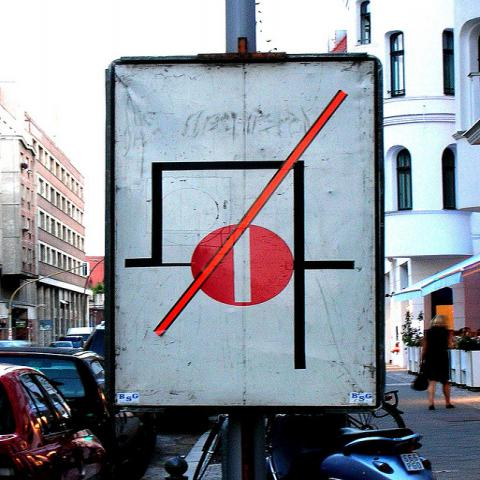car: (0, 346, 155, 480), (0, 361, 110, 479), (80, 322, 106, 362), (67, 327, 91, 343), (58, 336, 84, 348), (47, 342, 74, 350)
motorcycle: (194, 416, 436, 480)
truck: (67, 326, 92, 338)
